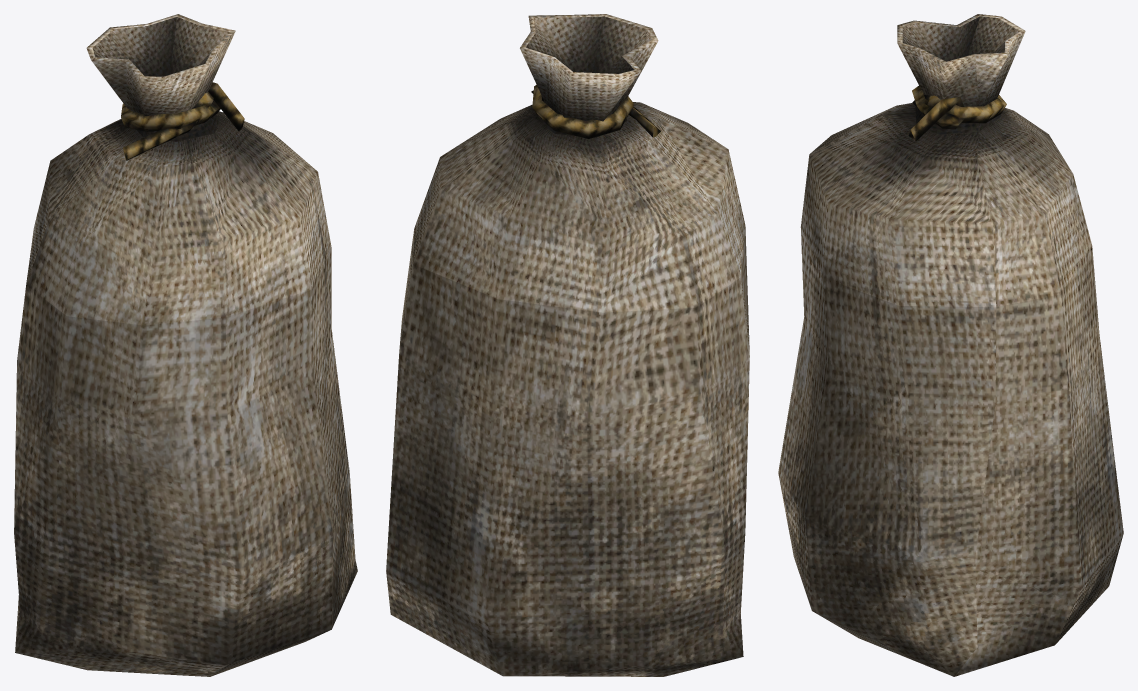
File: potato_sack_closed.dae
3 renders of one model, left to right at view 1: azimuth 30°, elevation 25°; view 2: azimuth 150°, elevation 25°; view 3: azimuth 270°, elevation 25°, orthographic. The views are drawn at different scales.
Parts seen in each view (by area): view 1: potato_sack_closed, potato_sack_closed_rope; view 2: potato_sack_closed, potato_sack_closed_rope; view 3: potato_sack_closed, potato_sack_closed_rope.
Part boxes in pixels (left/top/right/bottom): potato_sack_closed: left=14, top=14, right=357, bottom=676; potato_sack_closed_rope: left=121, top=82, right=244, bottom=160; potato_sack_closed: left=386, top=14, right=749, bottom=676; potato_sack_closed_rope: left=531, top=85, right=660, bottom=138; potato_sack_closed: left=778, top=14, right=1123, bottom=676; potato_sack_closed_rope: left=909, top=86, right=1006, bottom=141.
Size of the model in its own units: 0.4973 by 0.814 by 0.4511.
